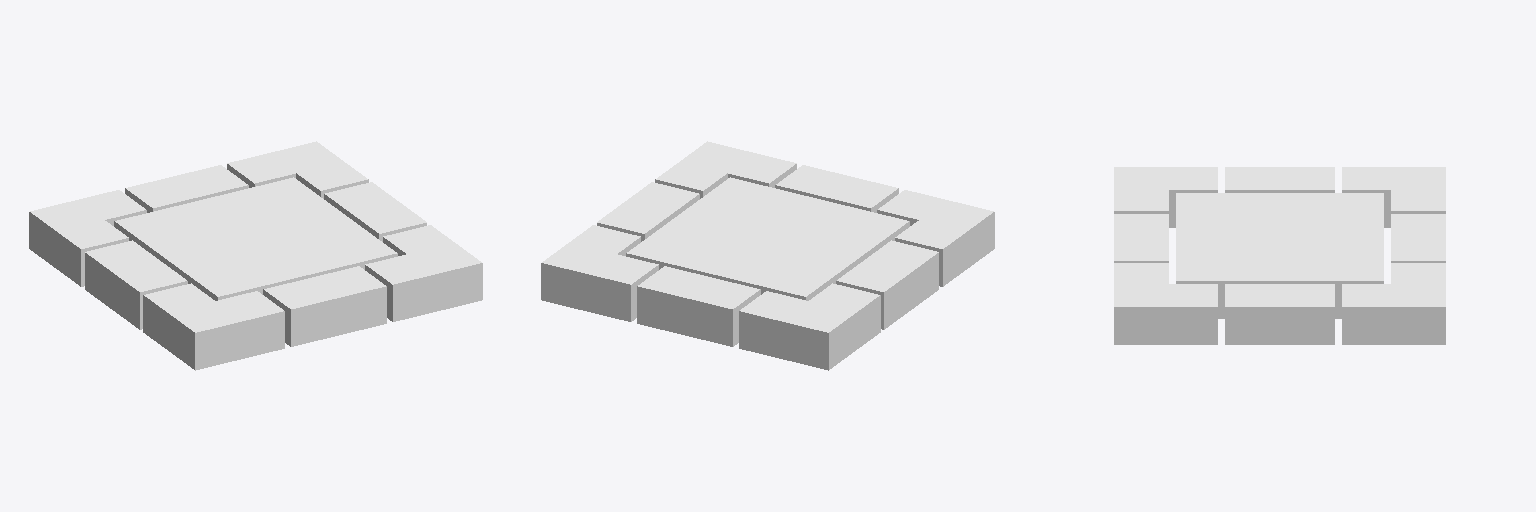
The model's file is Tile-1.obj.
The picture shows the model from 3 angles: view 1: azimuth 30°, elevation 25°; view 2: azimuth 150°, elevation 25°; view 3: azimuth 270°, elevation 25°; orthographic projection.
Parts seen in each view (by area): view 1: object 1; view 2: object 1; view 3: object 1.
Boxes of the visible parts, box(x1,y1,x2,y2) form: object 1: box(29, 141, 482, 370); object 1: box(541, 141, 994, 370); object 1: box(1114, 167, 1445, 344).
Bounding box in the file's own units: 4.8 × 0.6 × 4.8.